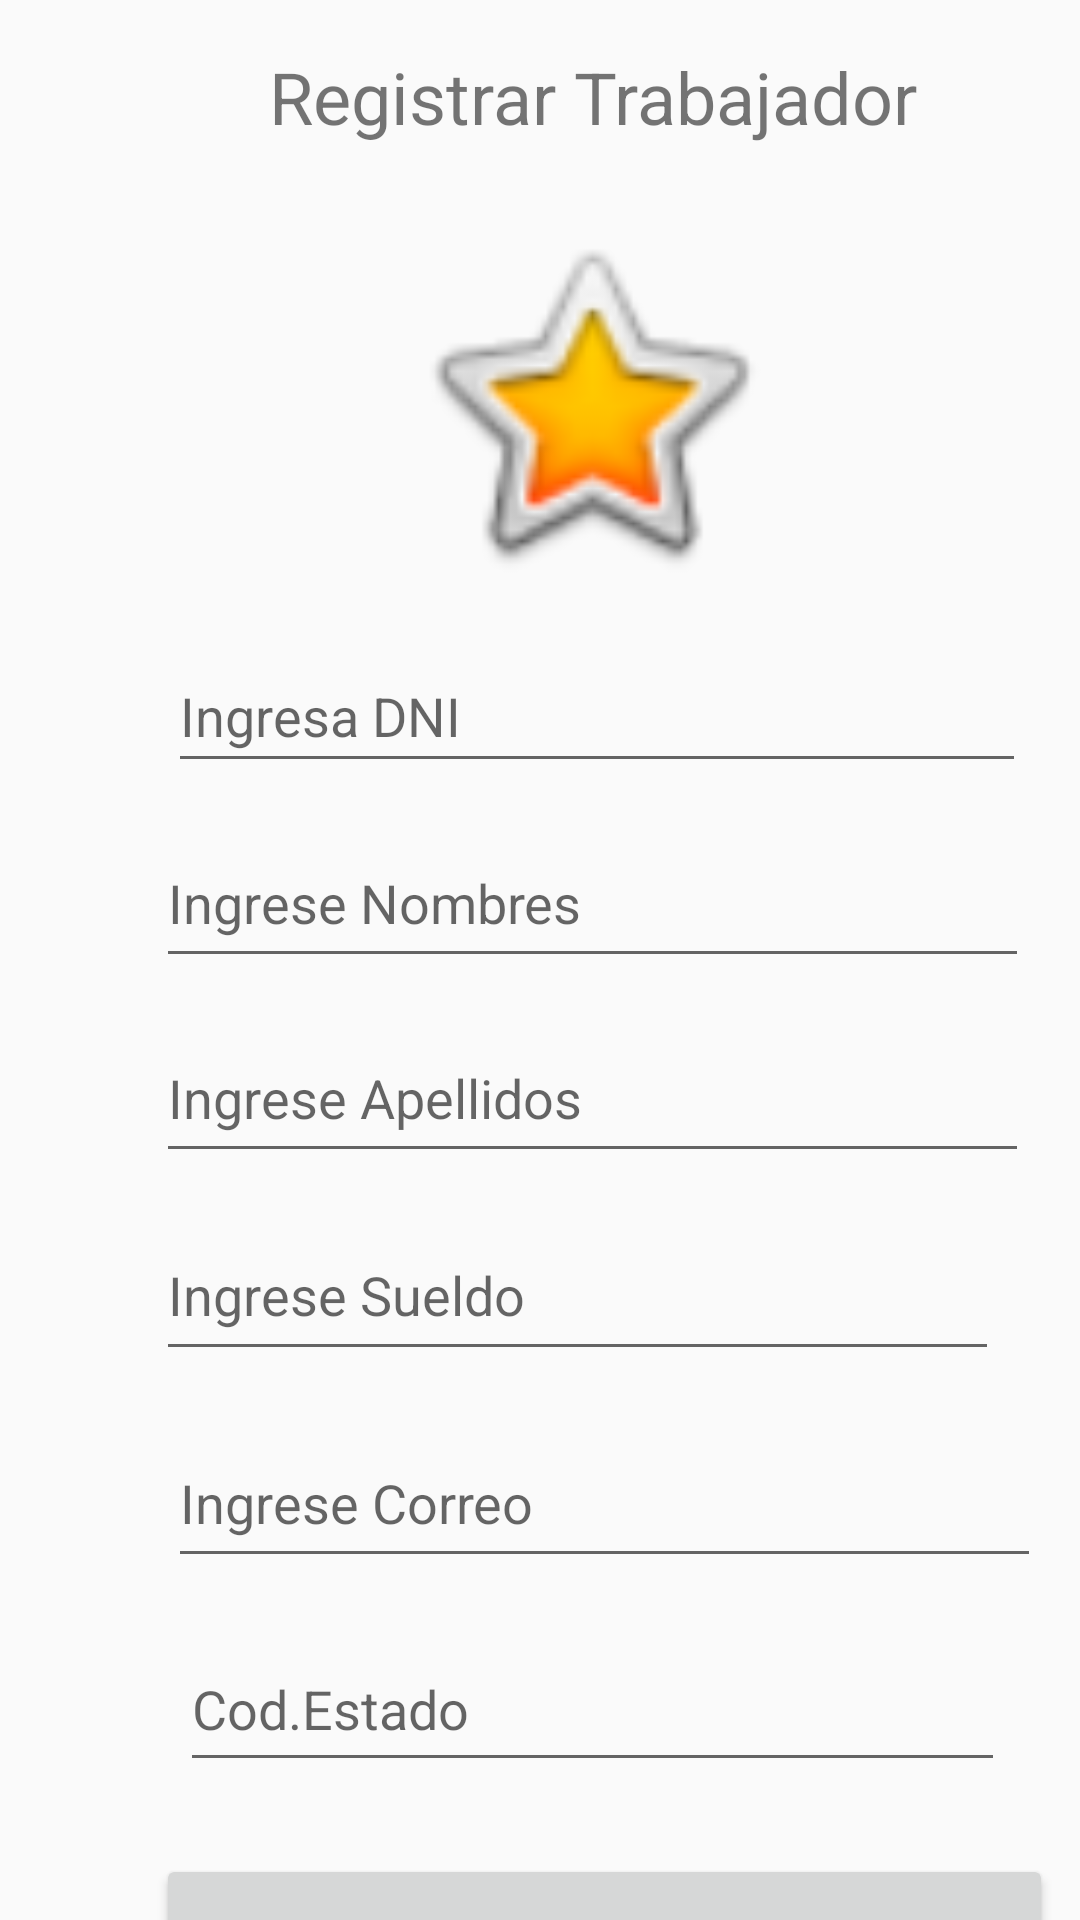

Icons on this 1080px x 1920px Android screen, each with its box as region(x1, y1, x2, y2):
star on: region(436, 254, 749, 559)
